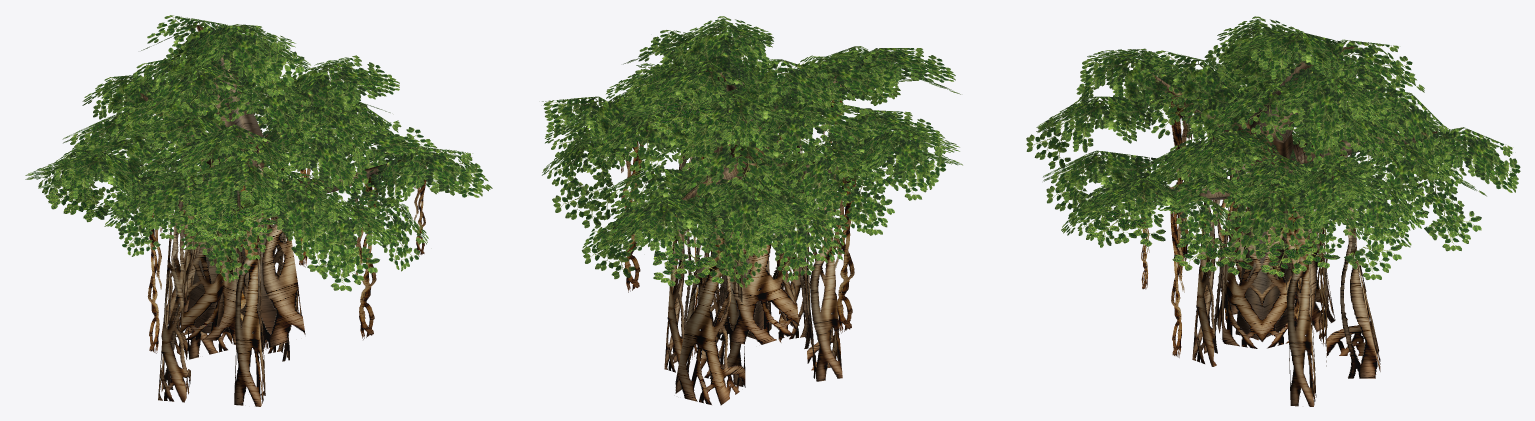
Rendered from banyan_0.glb.
The picture shows the model from 3 angles, left to right: view 1: azimuth 30°, elevation 25°; view 2: azimuth 150°, elevation 25°; view 3: azimuth 270°, elevation 25°; orthographic projection.
Visible parts, largest first — view 1: banyan_0; view 2: banyan_0; view 3: banyan_0.
Part boxes in pixels (x1=…): banyan_0: x1=25, y1=15, x2=492, y2=406; banyan_0: x1=542, y1=16, x2=962, y2=405; banyan_0: x1=1026, y1=16, x2=1520, y2=406.
Bounding box in the file's own units: 15.39 × 12.74 × 16.61.
Materials: 2 (2 with a texture image).
